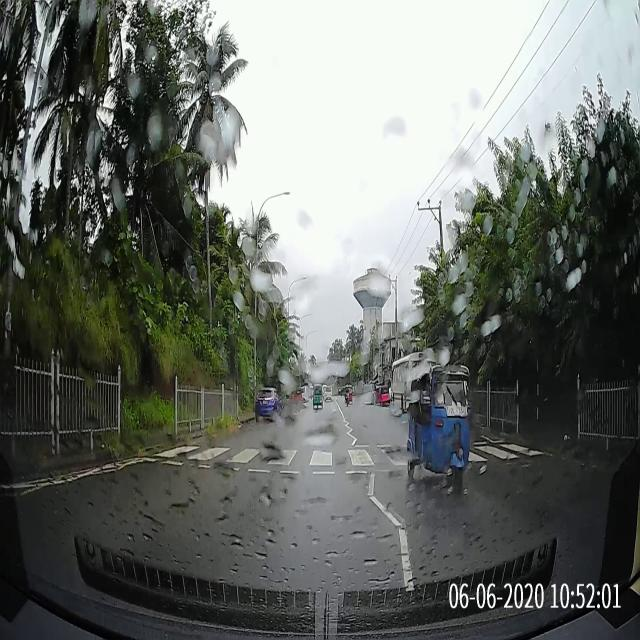Perehod: (132, 439, 407, 479)
